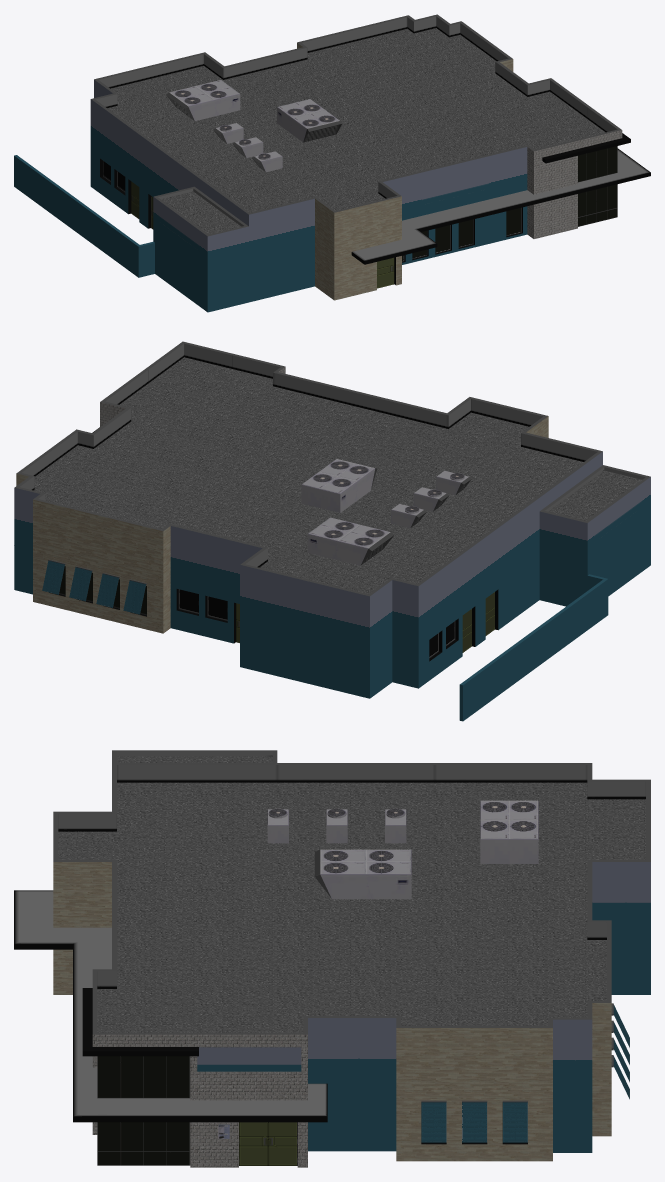
The picture shows the model from 3 angles, top to bottom: view 1: azimuth 30°, elevation 25°; view 2: azimuth 150°, elevation 25°; view 3: azimuth 270°, elevation 25°; orthographic projection. The views are drawn at different scales.
Parts seen in each view (by area): view 1: export SF; view 2: export SF; view 3: export SF.
Part boxes in pixels (bbox=[...]): export SF: bbox=[14, 14, 650, 312]; export SF: bbox=[14, 341, 650, 721]; export SF: bbox=[14, 750, 650, 1167].
Bounding box in the file's own units: 400 × 79.09 × 325.
Materials: 1 (1 with a texture image).
